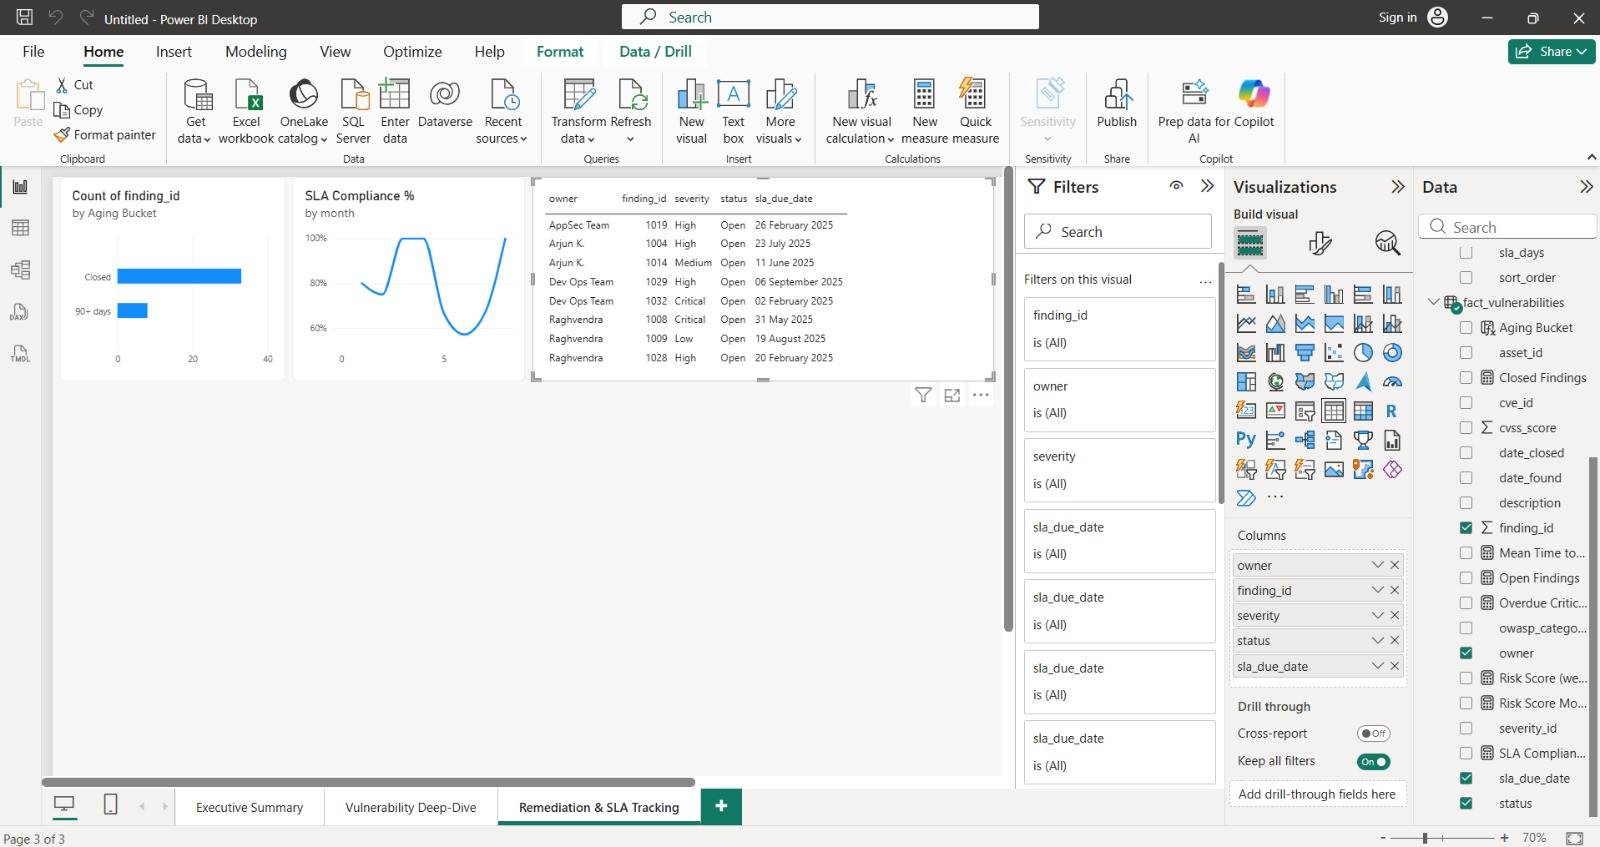

What the dashboard file says about the page in this screenshot:
{"tool":"powerbi","page":{"name":"Remediation & SLA Tracking","canvas":[1920,1080],"ordinal":2},"visuals":[{"type":"barChart","fields":{"Category":["fact_vulnerabilities.Aging Bucket"],"Y":["CountNonNull(fact_vulnerabilities.finding_id)"]},"box":[10,0,308.6,280],"z":0},{"type":"lineChart","fields":{"Category":["dim_date.month"],"Y":["fact_vulnerabilities.SLA Compliance %"]},"box":[328.6,0,318.6,280],"z":1},{"type":"tableEx","fields":{"Values":["fact_vulnerabilities.owner","fact_vulnerabilities.finding_id","dim_severity.severity","fact_vulnerabilities.status","fact_vulnerabilities.sla_due_date.Variation.Date Hierarchy.Year"]},"box":[657.1,0,632.9,280],"z":2}]}

Visuals, with their boxes on the page's 1920x1080 design canvas (x1, y1, x2, y2). These are canvas units, not pixel positions in the 1600x847 screenshot, which may show the page scaled, cropped or inside an application window:
barChart - fact_vulnerabilities.Aging Bucket x CountNonNull(fact_vulnerabilities.finding_id): 10,0,319,280
lineChart - dim_date.month x fact_vulnerabilities.SLA Compliance %: 329,0,647,280
tableEx - fact_vulnerabilities.owner x fact_vulnerabilities.finding_id: 657,0,1290,280
